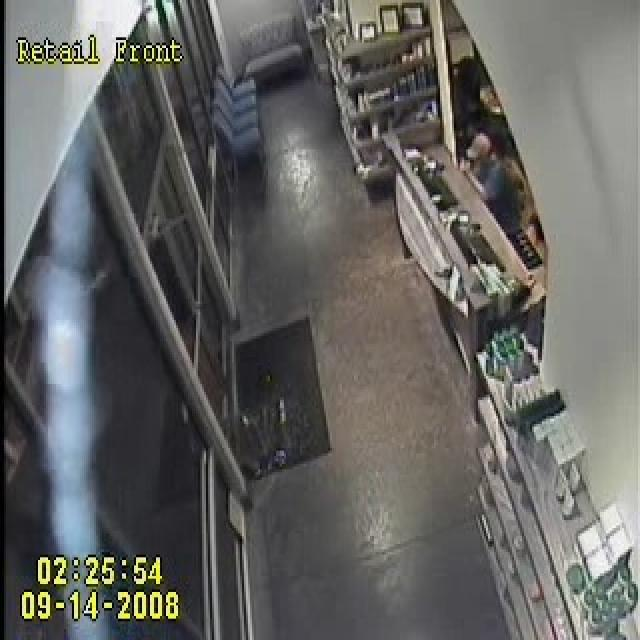thief: (447, 134, 518, 253)
